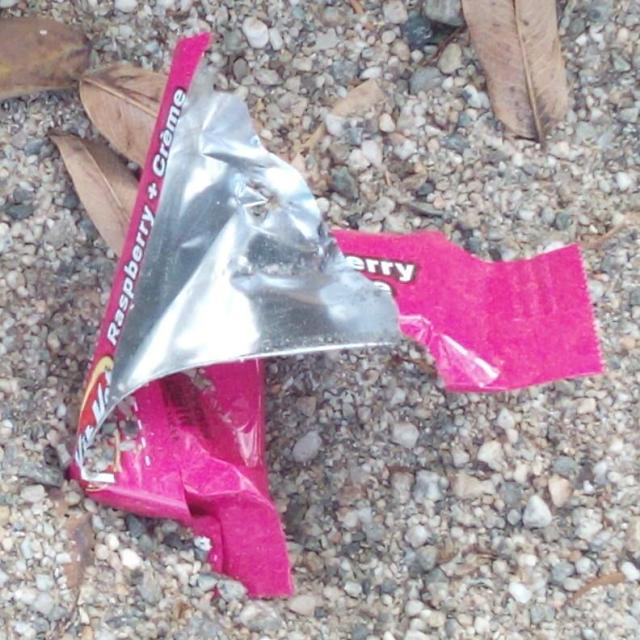litter: (66, 34, 604, 596)
